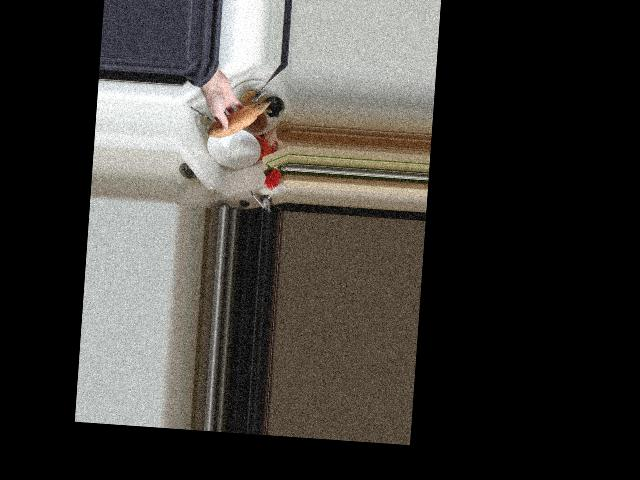sweet_potato: (206, 95, 269, 143)
